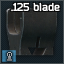M1A SA XS Post .125 blade front sight: (0, 0, 64, 64)
